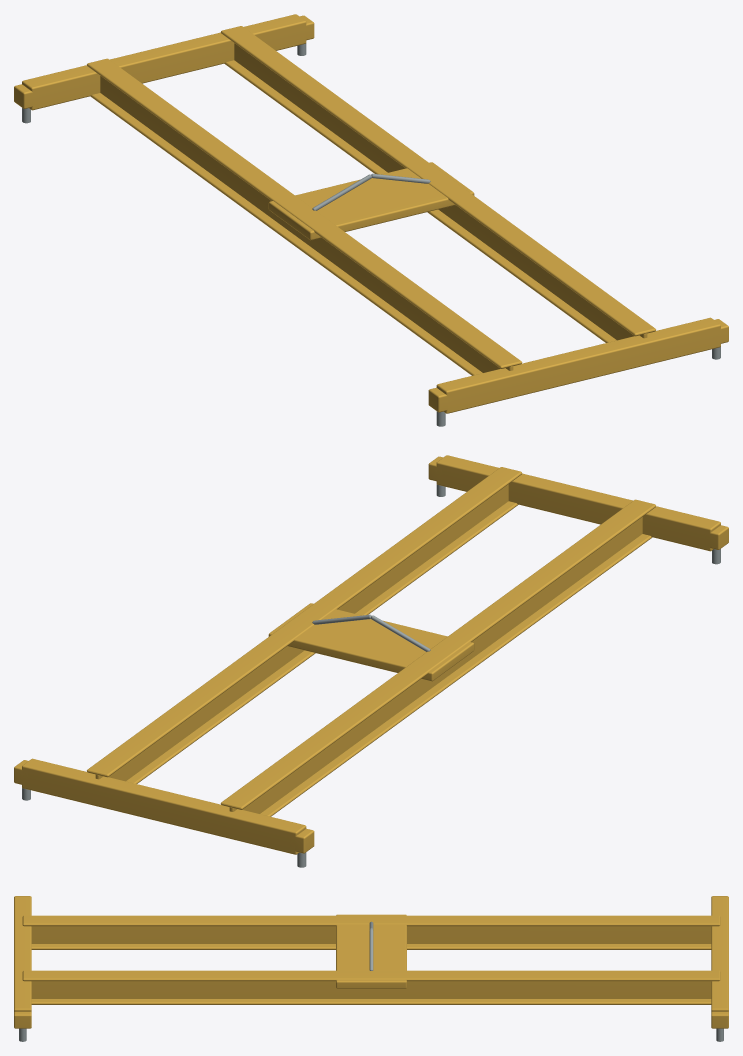
Rendered from container_20ft_spreader.glb.
3 renders of one model, top to bottom at view 1: azimuth 30°, elevation 25°; view 2: azimuth 150°, elevation 25°; view 3: azimuth 270°, elevation 25°, orthographic. The views are drawn at different scales.
Parts seen in each view (by area): view 1: container_20ft_spreader Fixed_LiftingFrame, container_20ft_spreader Fixed_LiftSteel; view 2: container_20ft_spreader Fixed_LiftingFrame, container_20ft_spreader Fixed_LiftSteel; view 3: container_20ft_spreader Fixed_LiftingFrame, container_20ft_spreader Fixed_LiftSteel.
Boxes of the visible parts, x1=… form: container_20ft_spreader Fixed_LiftingFrame: x1=14, y1=14, x2=728, y2=413; container_20ft_spreader Fixed_LiftSteel: x1=22, y1=43, x2=720, y2=426; container_20ft_spreader Fixed_LiftingFrame: x1=14, y1=455, x2=728, y2=854; container_20ft_spreader Fixed_LiftSteel: x1=22, y1=484, x2=720, y2=867; container_20ft_spreader Fixed_LiftingFrame: x1=14, y1=896, x2=728, y2=1028; container_20ft_spreader Fixed_LiftSteel: x1=19, y1=921, x2=723, y2=1041.
Bounding box in the file's own units: 2.39 × 0.5108 × 6.05.
